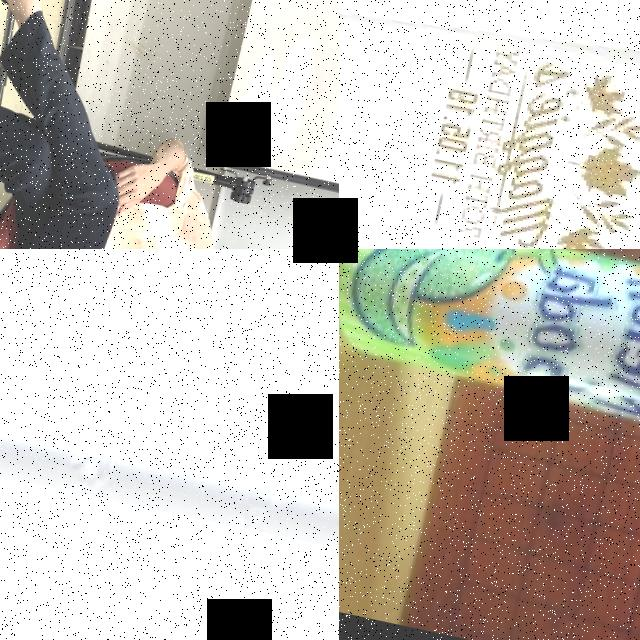can: (0, 249, 339, 621), (339, 249, 640, 469)
cup: (339, 0, 640, 249), (339, 0, 640, 66)
